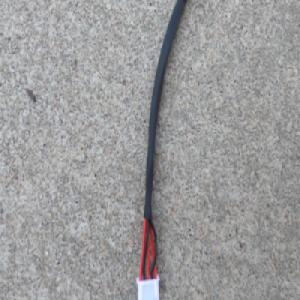Wire: (133, 0, 193, 300)
